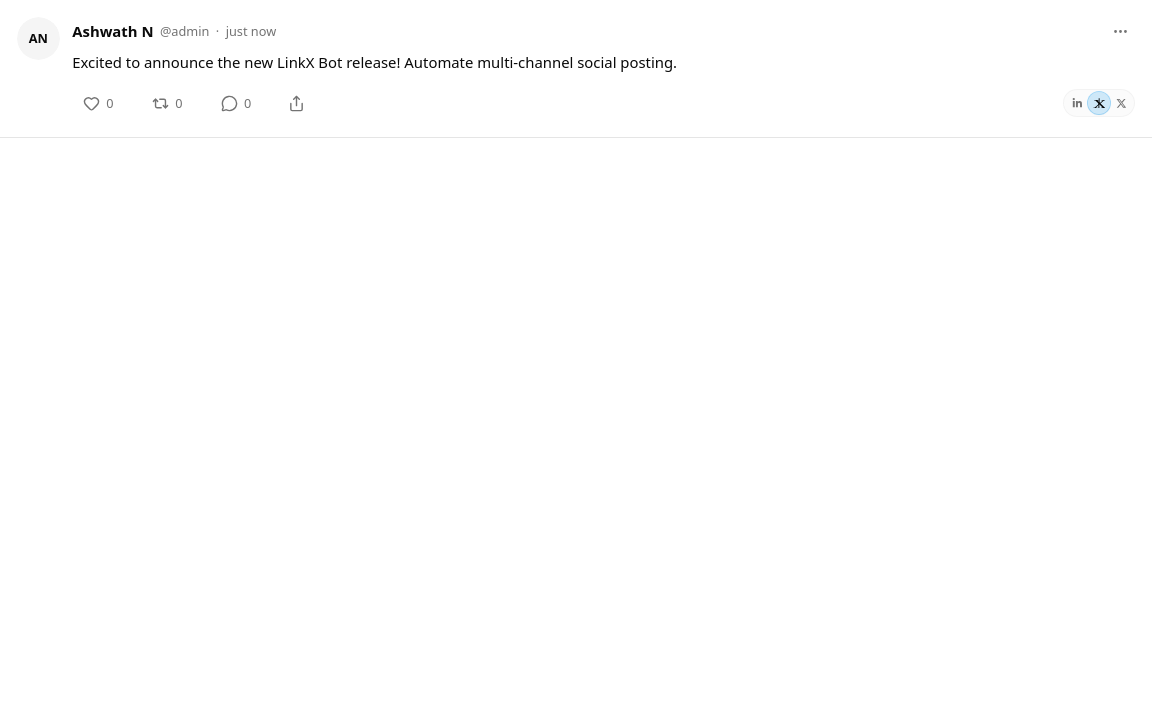
Test case: DraftArtifactCard component › opens popup edit dialog in place when clicking Edit on saved draft
The image size is (1152, 720).
Press the mouse on the button named "more options" at (1120, 32), box [1105,17,1135,47]
Click the button named "more options" at (1120, 32), box [1105,17,1135,47]
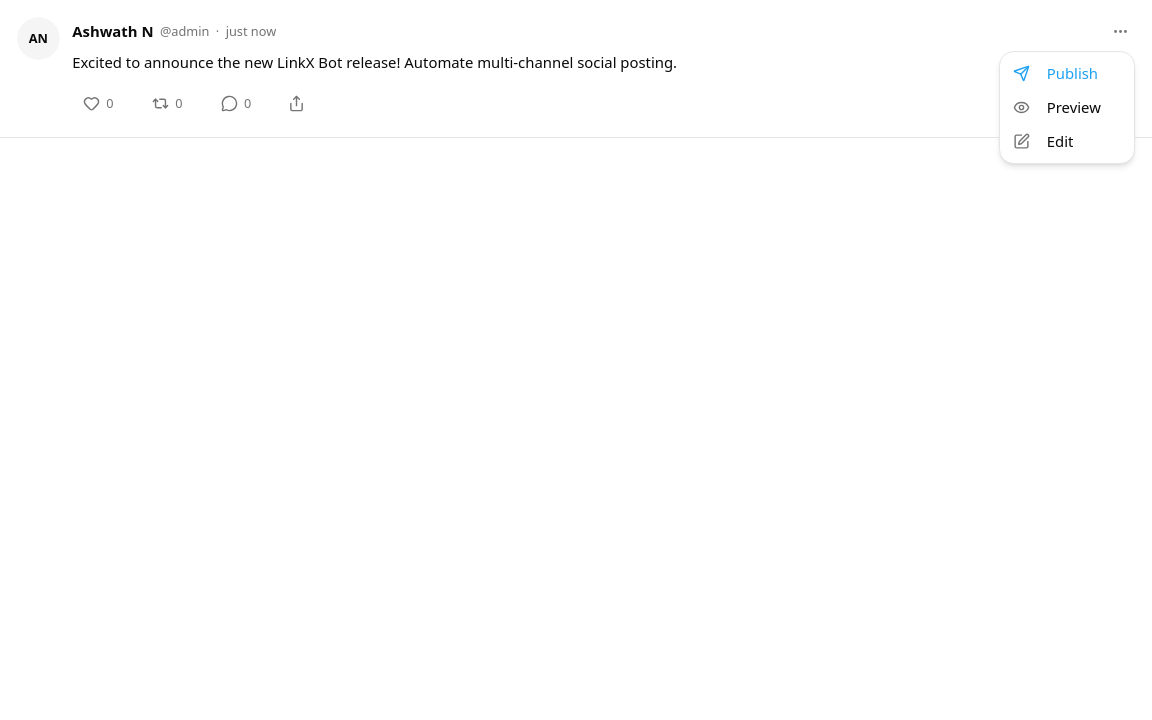
Click the menu item "Edit" at (1021, 141), box [1013,131,1073,151]
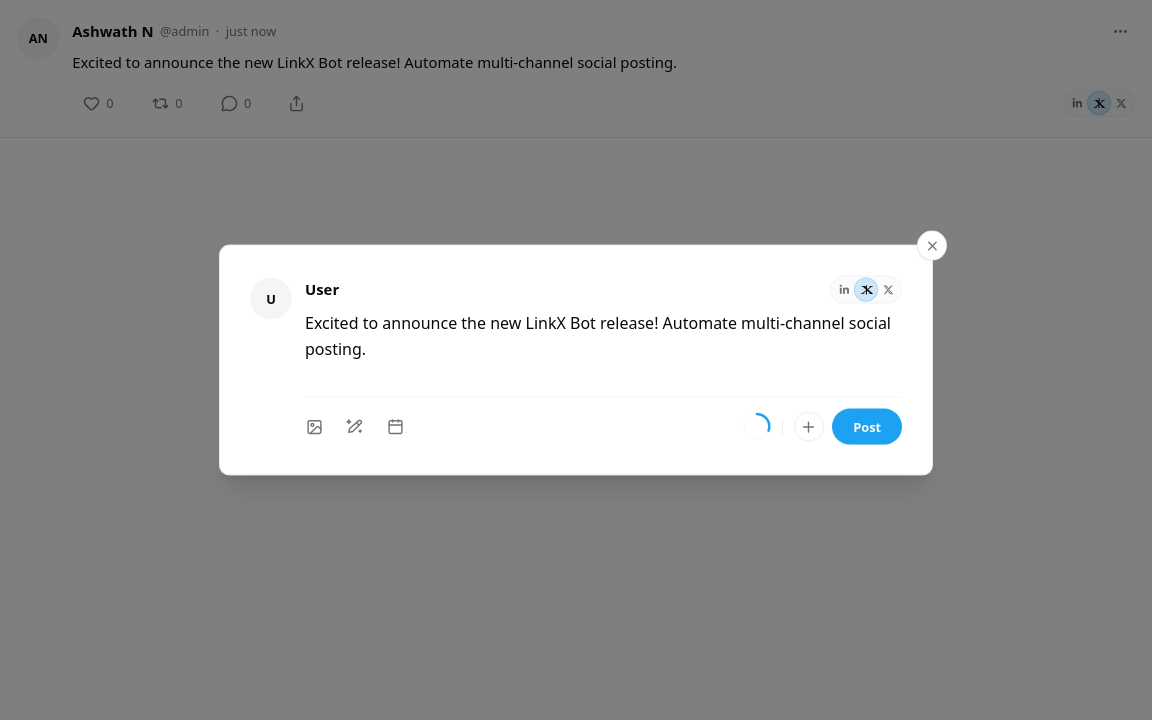
Result: the element named "edit post" is shown at [246,271,906,449]
